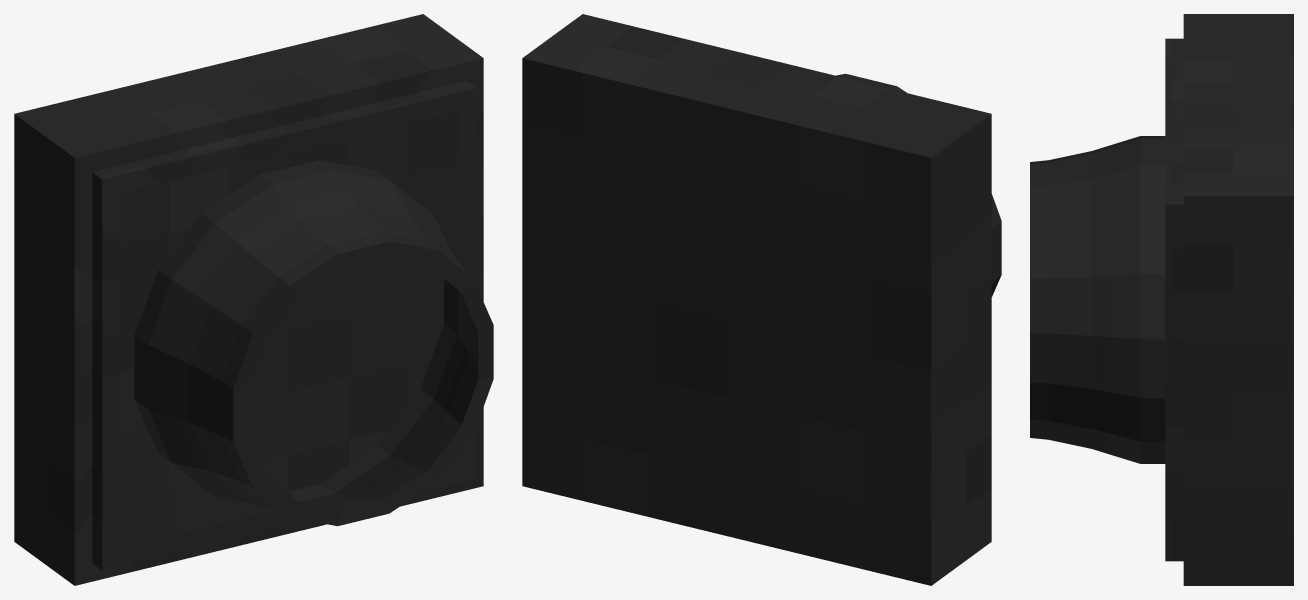
File: decopole_laconcrete_base_n.obj
3 views of the same model, side by side, from view 1: azimuth 30°, elevation 25°; view 2: azimuth 150°, elevation 25°; view 3: azimuth 270°, elevation 25° (orthographic). The views are drawn at different scales.
Parts seen in each view (by area): view 1: decopole_laconcrete_base_n; view 2: decopole_laconcrete_base_n; view 3: decopole_laconcrete_base_n.
Boxes of the visible parts, bbox=[...] form: decopole_laconcrete_base_n: bbox=[14, 14, 493, 585]; decopole_laconcrete_base_n: bbox=[522, 14, 1001, 585]; decopole_laconcrete_base_n: bbox=[1030, 14, 1293, 585].
Bounding box in the file's own units: 0.875 × 0.875 × 0.5363.
